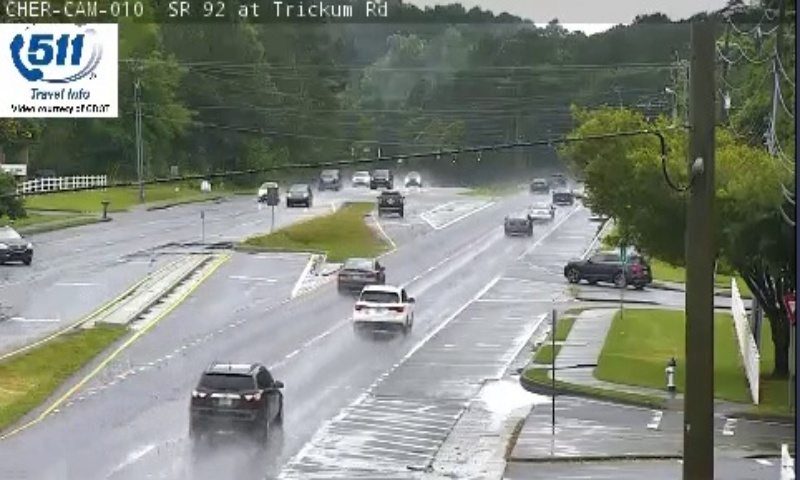car: (189, 362, 282, 431), (353, 283, 411, 326), (337, 256, 384, 290), (503, 211, 533, 236), (377, 191, 405, 214), (528, 199, 553, 222)
